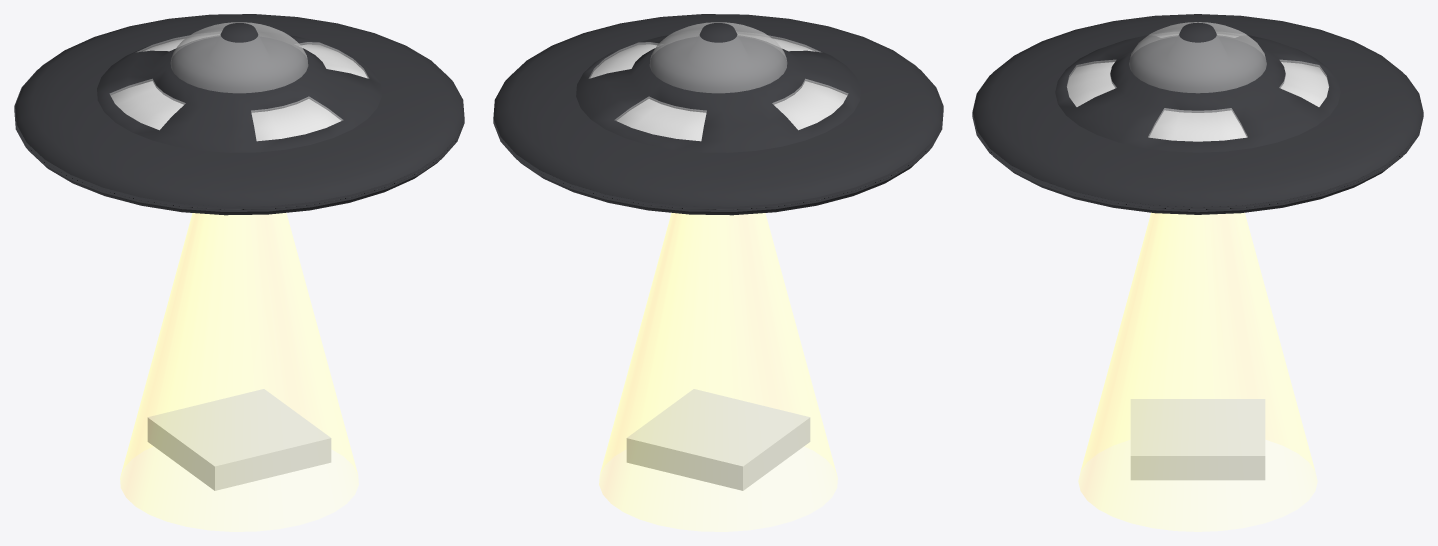
The model's file is UFO.fbx.
3 views of the same model, side by side, from view 1: azimuth 30°, elevation 25°; view 2: azimuth 150°, elevation 25°; view 3: azimuth 270°, elevation 25° (orthographic).
Parts seen in each view (by area): view 1: 円錐, UpBody, MainBody, 立方体, Windou, Center, UnderBody; view 2: 円錐, UpBody, MainBody, 立方体, Windou, Center, UnderBody; view 3: 円錐, UpBody, MainBody, 立方体, Windou, Center, UnderBody.
Boxes of the visible parts, bbox=[...] form: 円錐: bbox=[120, 213, 358, 531]; UpBody: bbox=[15, 14, 464, 206]; MainBody: bbox=[97, 23, 381, 152]; 立方体: bbox=[147, 389, 331, 490]; Windou: bbox=[170, 22, 308, 93]; Center: bbox=[14, 69, 464, 211]; UnderBody: bbox=[28, 150, 438, 215]; 円錐: bbox=[599, 213, 837, 531]; UpBody: bbox=[493, 14, 942, 206]; MainBody: bbox=[576, 23, 860, 152]; 立方体: bbox=[626, 389, 810, 490]; Windou: bbox=[649, 22, 787, 93]; Center: bbox=[493, 69, 943, 211]; UnderBody: bbox=[519, 150, 929, 215]; 円錐: bbox=[1078, 212, 1317, 531]; UpBody: bbox=[973, 14, 1422, 207]; MainBody: bbox=[1055, 22, 1340, 152]; 立方体: bbox=[1130, 399, 1265, 480]; Windou: bbox=[1129, 22, 1266, 93]; Center: bbox=[972, 74, 1423, 212]; UnderBody: bbox=[993, 156, 1402, 214].
Bounding box in the file's own units: 377 × 417 × 377.
